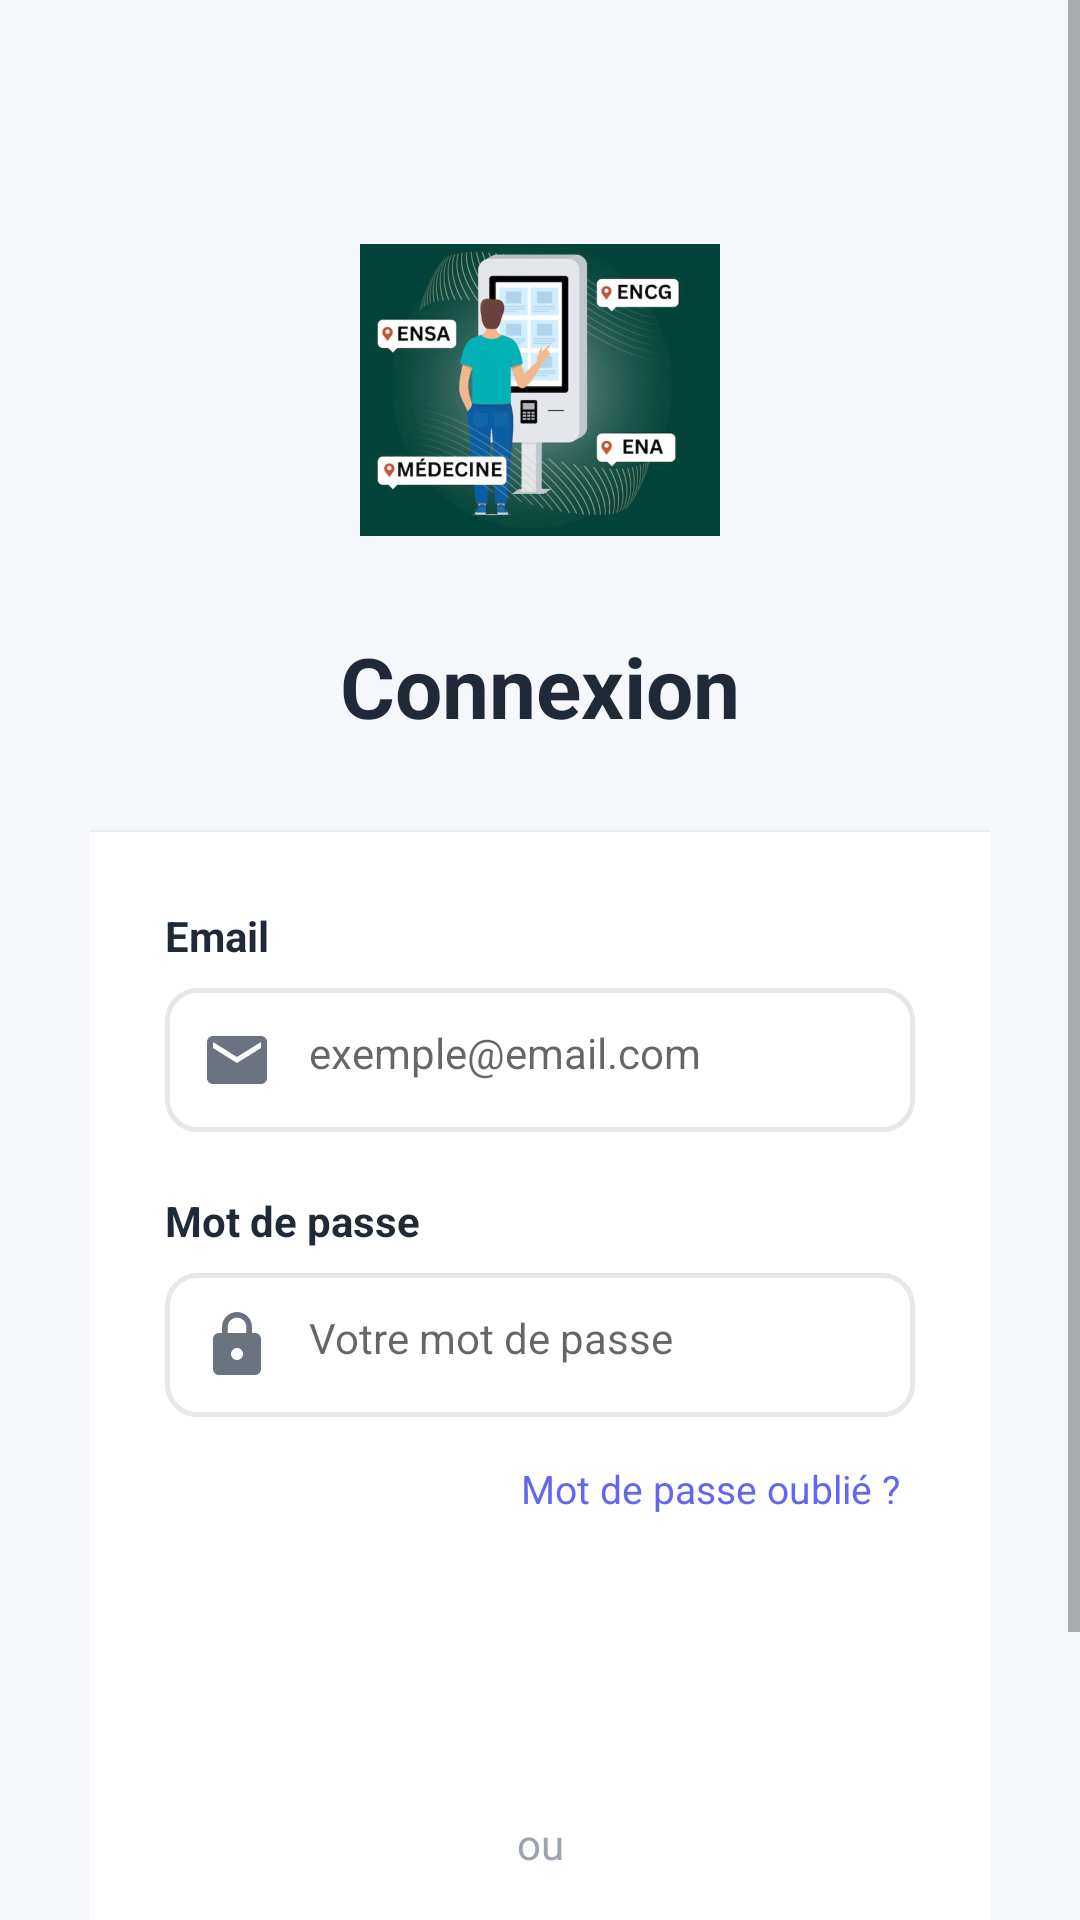

Icon click points for this 1080 × 1920 phone screenshot, format point (x, y):
lock: point (237, 1343)
student: point (540, 390)
